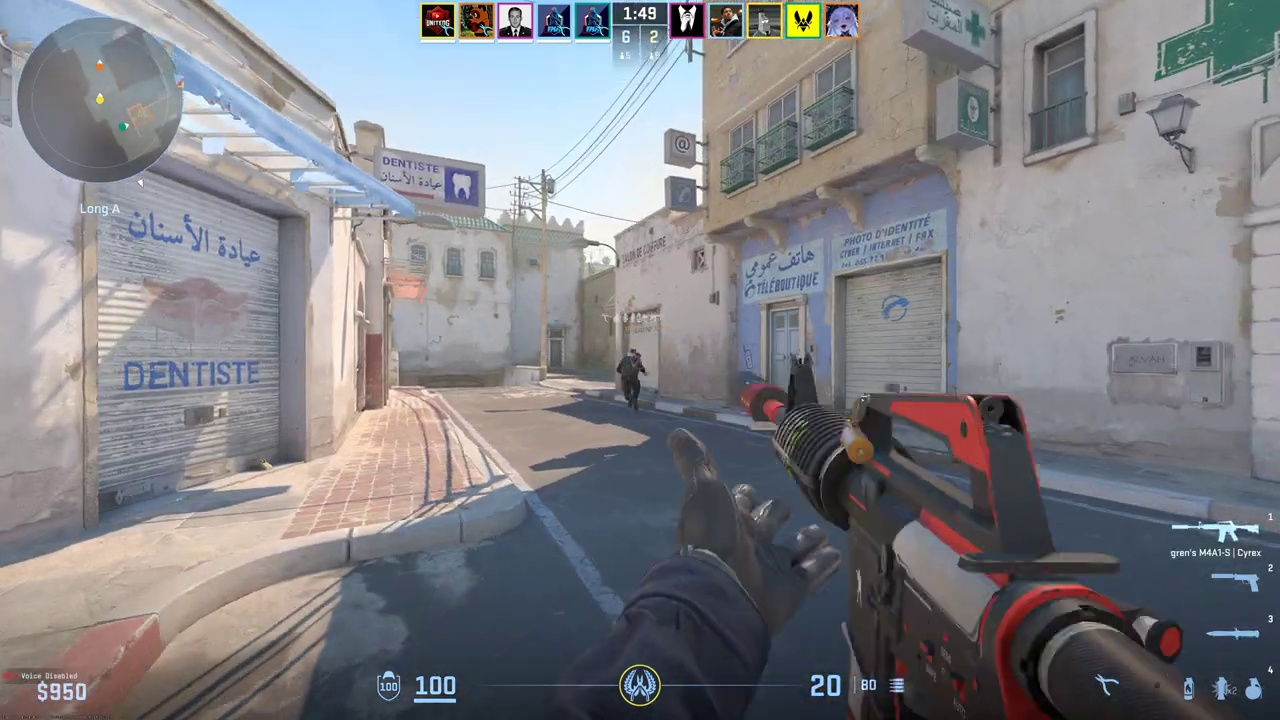CT: (619, 348, 642, 410)
